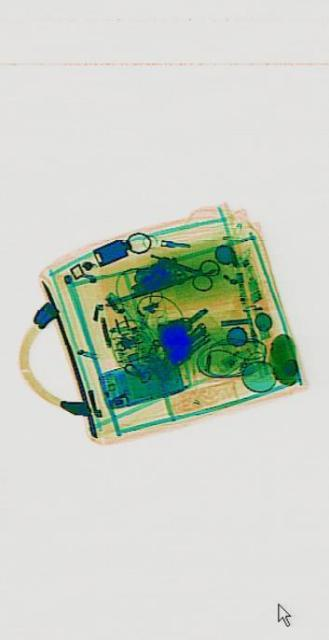Scissors: (160, 235, 219, 298)
